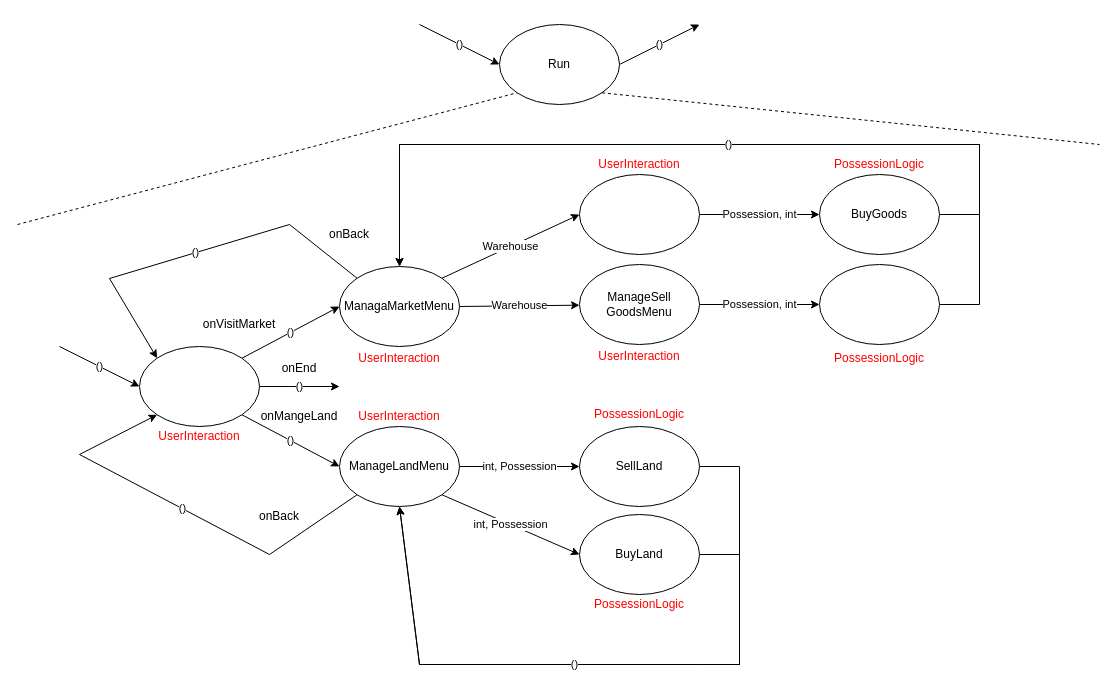
Image size: 1118x690. Some labels were removed from this diagram. The centre of each missing label's shape, as x and y in pixels:
"MainMenu" belongs at (x=199, y=386).
"ManageBuy GoodsMenu" belongs at (x=639, y=214).
"SellGoods" belongs at (x=879, y=304).
